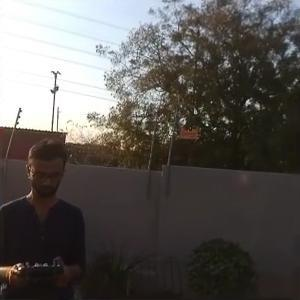follow: (0, 132, 90, 298)
